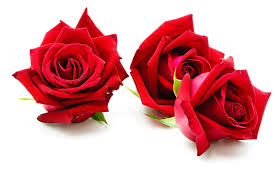lale: (8, 7, 133, 141), (166, 60, 268, 157), (123, 12, 216, 114)
